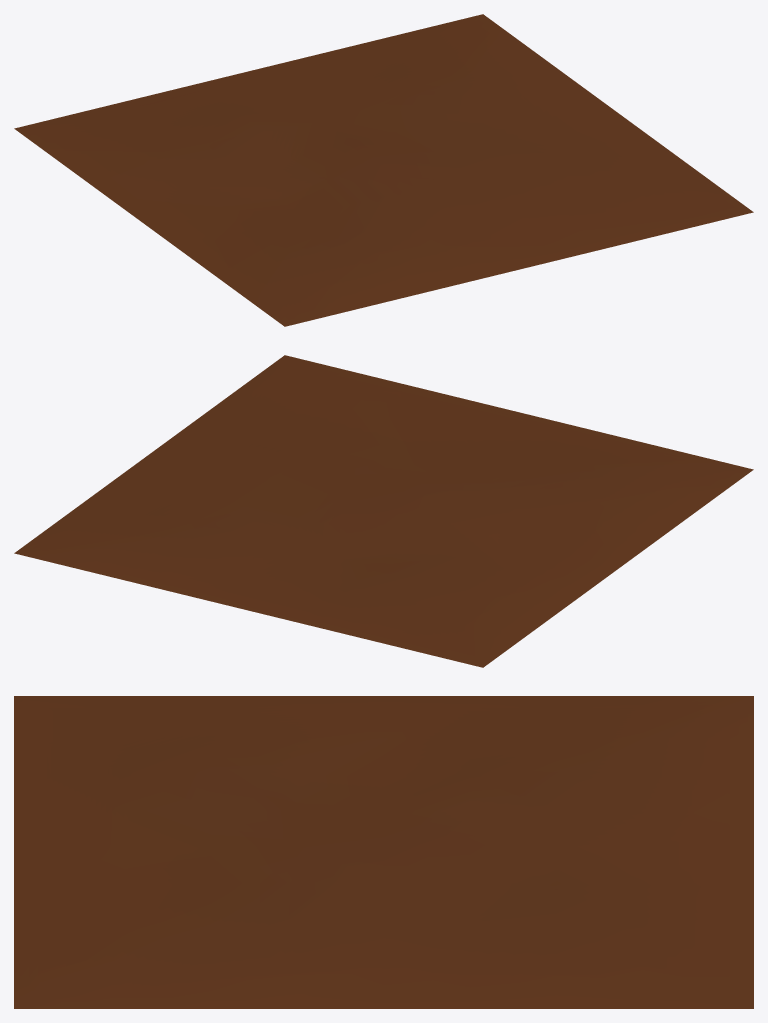
The model's file is Env_Dirt_Small_Watered_01.obj.
3 views of the same model, one above another, from view 1: azimuth 30°, elevation 25°; view 2: azimuth 150°, elevation 25°; view 3: azimuth 270°, elevation 25° (orthographic). The views are drawn at different scales.
Parts seen in each view (by area): view 1: Env_Dirt_Small_Watered_01; view 2: Env_Dirt_Small_Watered_01; view 3: Env_Dirt_Small_Watered_01.
Part boxes in pixels (x1=…): Env_Dirt_Small_Watered_01: x1=14, y1=14, x2=753, y2=326; Env_Dirt_Small_Watered_01: x1=14, y1=355, x2=753, y2=667; Env_Dirt_Small_Watered_01: x1=14, y1=696, x2=753, y2=1008.
Size of the model in its own units: 0.5 by 0.00605 by 0.5.
1 material, 1 textured.
